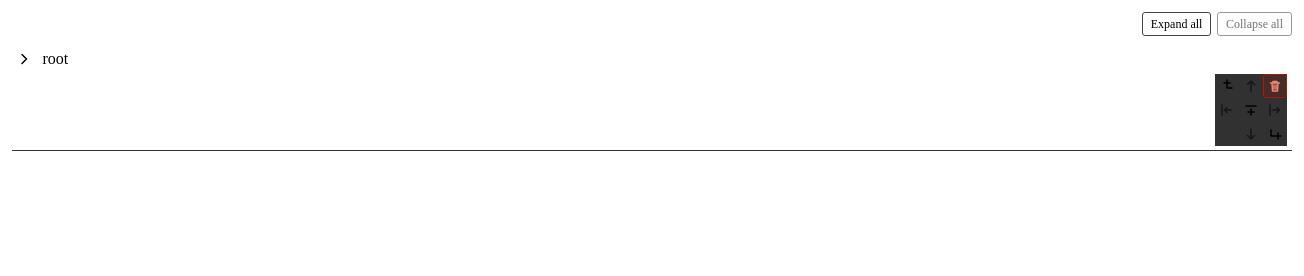
Test case: TreeOutlineEditor move modifiers › defaults foldable nodes closed and provides no-op-aware all controls
The image size is (1304, 276).
Check: the button "Collapse all" is disabled, box [1217, 12, 1292, 36]
What coordinates should you click on to do the following:
click the button "Expand all"
I would click on:
 (1177, 24)
Its box is [1142, 12, 1212, 36].
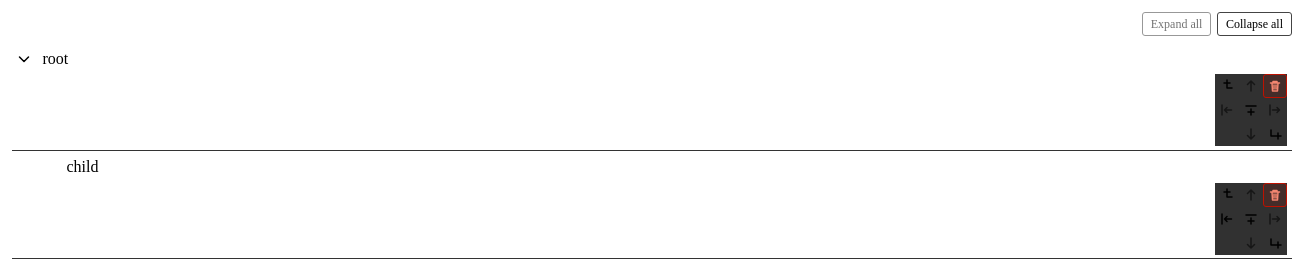
Check: the button named "Collapse root" is shown, box [12, 47, 36, 71]
